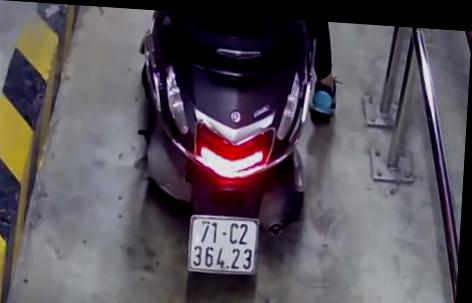License_Plate: (181, 206, 264, 281)
